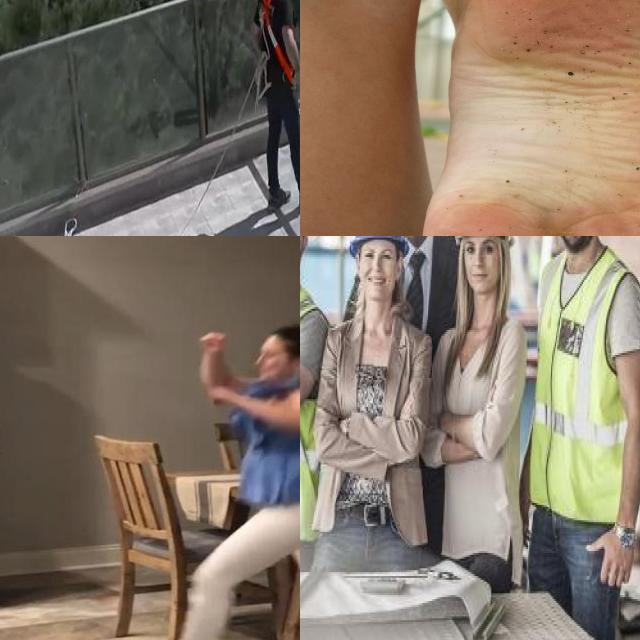Barefoots: (422, 0, 640, 236)
Harness: (259, 0, 293, 82)
No_Ear-Protection: (392, 256, 404, 281), (293, 345, 300, 382)
No_Glasses: (359, 242, 395, 267), (463, 238, 496, 257)
face_nomask: (356, 236, 402, 316), (459, 236, 512, 301), (248, 354, 290, 381)
hand_noglove: (185, 324, 229, 362)
person: (119, 316, 300, 640)
